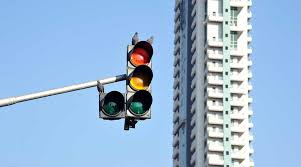signal: (100, 91, 152, 118), (127, 42, 154, 90)
